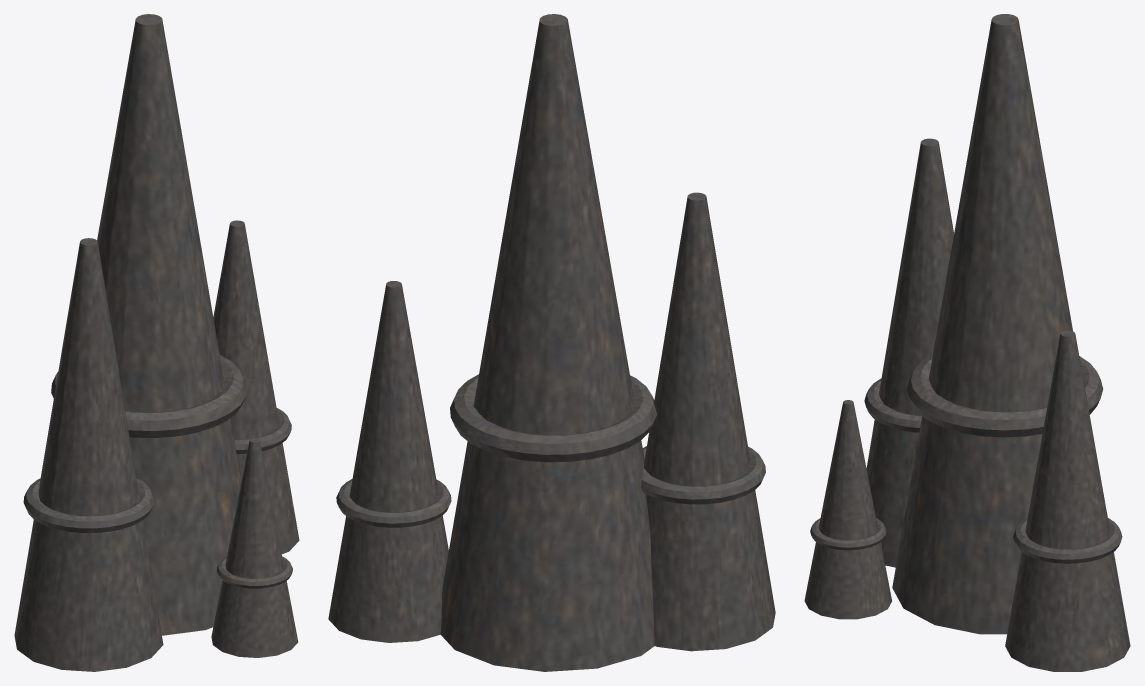
Rendered from stalagmites.glb.
3 views of the same model, side by side, from view 1: azimuth 30°, elevation 25°; view 2: azimuth 150°, elevation 25°; view 3: azimuth 270°, elevation 25° (orthographic). The views are drawn at different scales.
Parts seen in each view (by area): view 1: mite0, mite2, mite3, mite1, lip0, lip2, lip3, lip1; view 2: mite0, mite2, mite1, lip0, lip2, lip1; view 3: mite0, mite1, mite2, mite3, lip0, lip1, lip2, lip3.
Part boxes in pixels (<box>): mite0: <box>97,14,241,635</box>; mite2: <box>14,238,163,671</box>; mite3: <box>211,438,298,657</box>; mite1: <box>213,220,299,554</box>; lip0: <box>51,355,247,437</box>; lip2: <box>23,478,154,532</box>; lip3: <box>216,556,292,588</box>; lip1: <box>234,408,291,453</box>; mite0: <box>440,14,654,671</box>; mite2: <box>644,192,775,651</box>; mite1: <box>328,281,448,642</box>; lip0: <box>450,374,656,462</box>; lip2: <box>641,446,765,504</box>; lip1: <box>336,479,451,527</box>; mite0: <box>892,14,1072,634</box>; mite1: <box>1005,330,1130,671</box>; mite2: <box>866,138,953,567</box>; mite3: <box>804,400,891,619</box>; lip0: <box>907,355,1103,437</box>; lip1: <box>1013,518,1122,563</box>; lip2: <box>864,378,921,432</box>; lip3: <box>810,518,886,550</box>.
Bounding box in the file's own units: 0.6145 × 1 × 0.52.
1 material, 1 textured.
